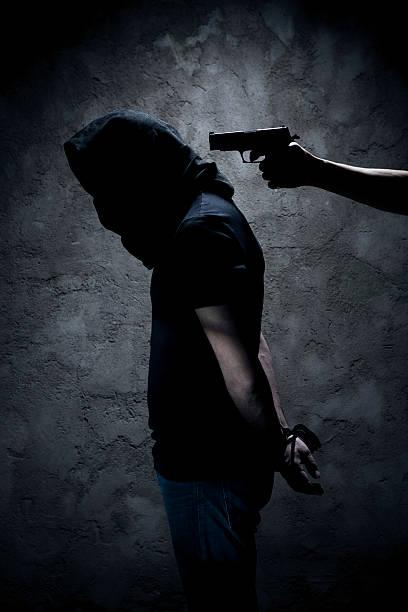weapon: (204, 124, 302, 194)
